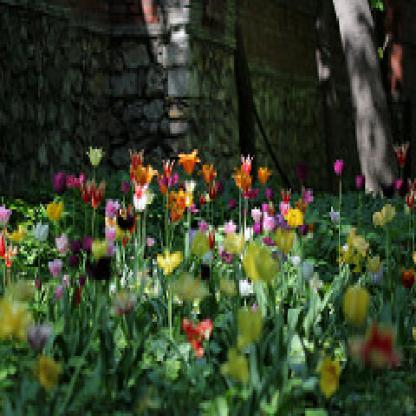TULIP: (52, 140, 402, 388)
